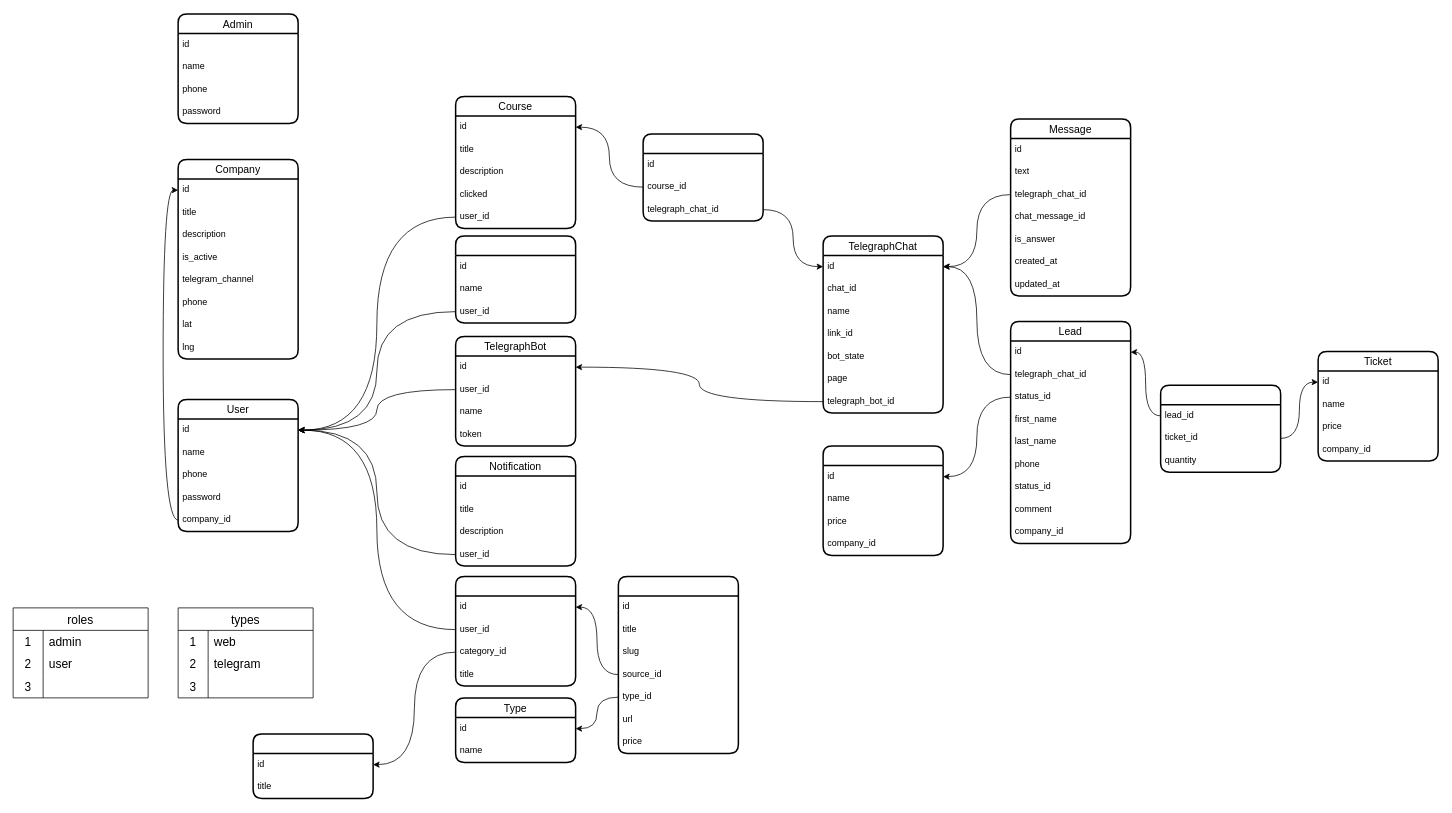
Image size: 1452x813. Some labels were removed from this diagram. Here are the shapes that lost their labels. From the top down, the box of each, then its label:
(642, 133, 764, 221): Order
(454, 235, 576, 323): LeadStatus
(1160, 384, 1281, 472): lead_ticket
(822, 445, 944, 556): Status
(454, 575, 576, 686): Source
(617, 575, 739, 754): Link
(252, 733, 374, 799): SourceCategory
